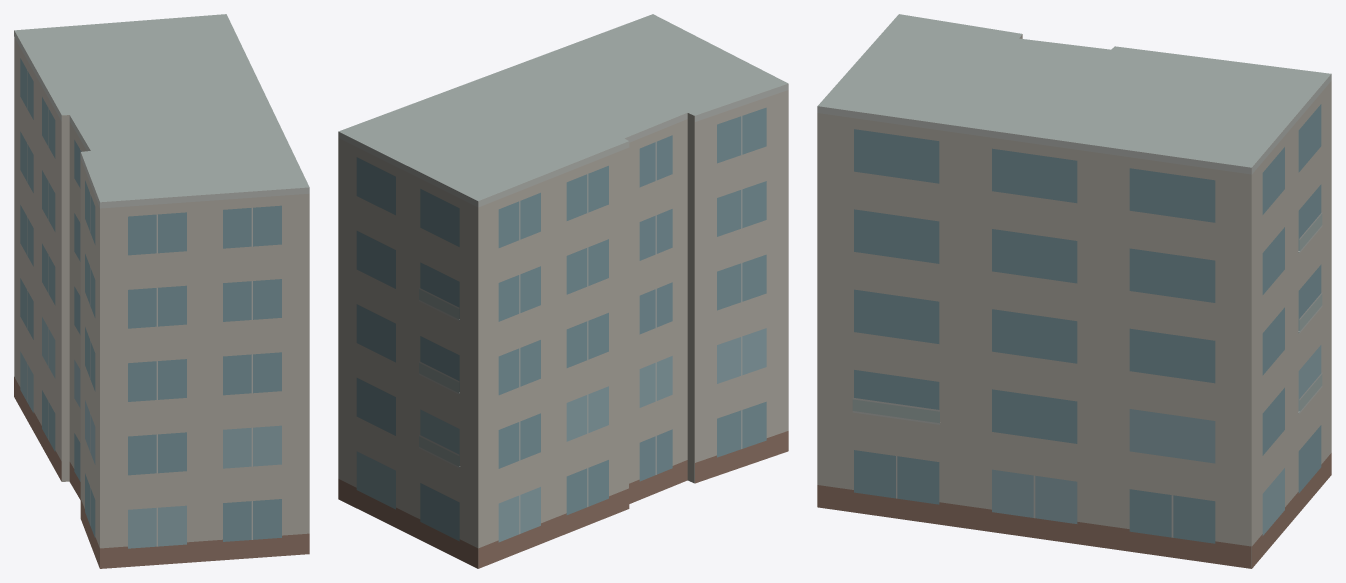
The model's file is survey-upis-32886852.glb.
3 views of the same model, side by side, from view 1: azimuth 30°, elevation 25°; view 2: azimuth 150°, elevation 25°; view 3: azimuth 270°, elevation 25° (orthographic). The views are drawn at different scales.
Visible parts, largest first — view 1: survey-upis-32886852.tmp; view 2: survey-upis-32886852.tmp; view 3: survey-upis-32886852.tmp.
Part boxes in pixels (left/top/right/bottom): survey-upis-32886852.tmp: left=14, top=14, right=309, bottom=568; survey-upis-32886852.tmp: left=338, top=14, right=788, bottom=568; survey-upis-32886852.tmp: left=817, top=14, right=1331, bottom=568.
Bounding box in the file's own units: 11.68 × 14.2 × 16.5.
